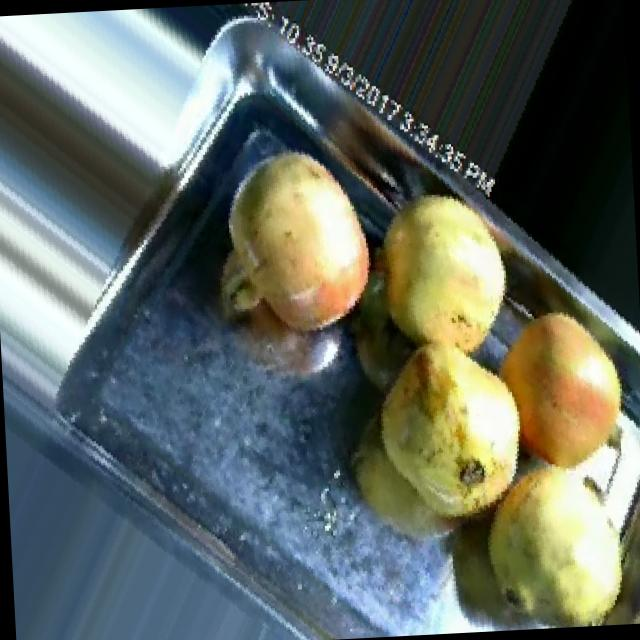fruit: (344, 312, 558, 562), (200, 125, 404, 363), (348, 168, 544, 382), (474, 281, 640, 517), (455, 442, 640, 632)
